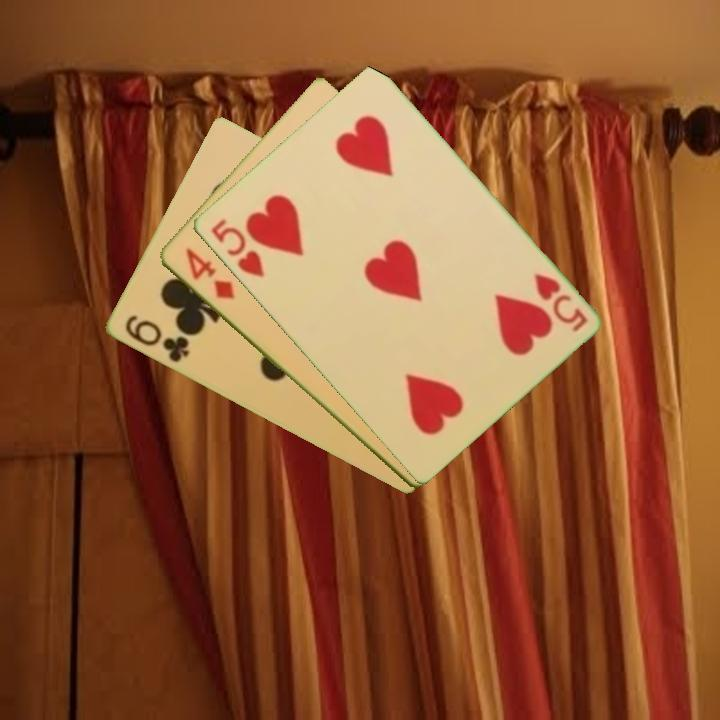4d: (181, 244, 237, 303)
5h: (207, 214, 267, 281), (530, 269, 590, 335)
6c: (120, 311, 192, 366)
